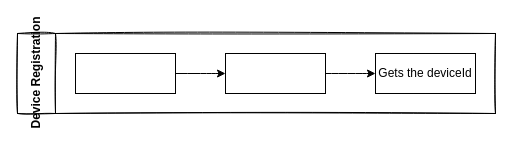
Image size: 513x146. Some labels were removed from this diagram. Each missing label, with the box of its shape:
Client connects via websocket: (224, 52, 326, 94)
Start: (74, 52, 176, 94)
